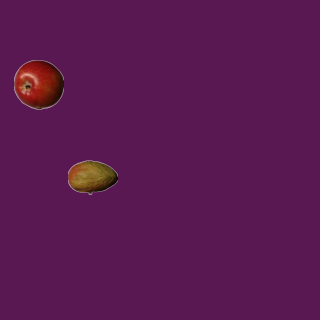Apple Braeburn: (13, 59, 63, 109)
Papaya: (67, 152, 117, 202)
